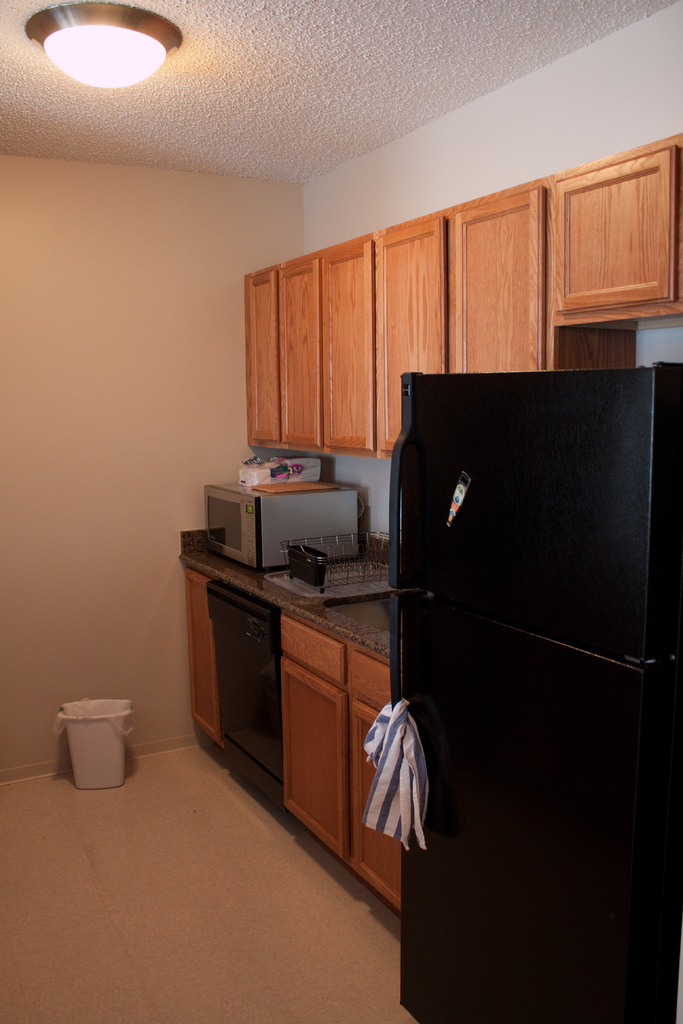cabinet door: (554, 183, 673, 294), (450, 220, 539, 366), (377, 238, 439, 412), (285, 668, 350, 832), (322, 277, 376, 451), (275, 270, 323, 441), (350, 710, 400, 873), (185, 580, 218, 724), (248, 272, 278, 425)
handle: (385, 418, 415, 596), (385, 596, 414, 744)
refrigerator door: (406, 594, 641, 1024), (404, 397, 653, 610)
